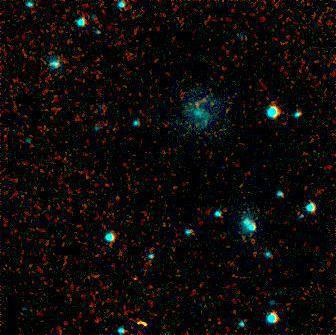star: (117, 264, 147, 294)
